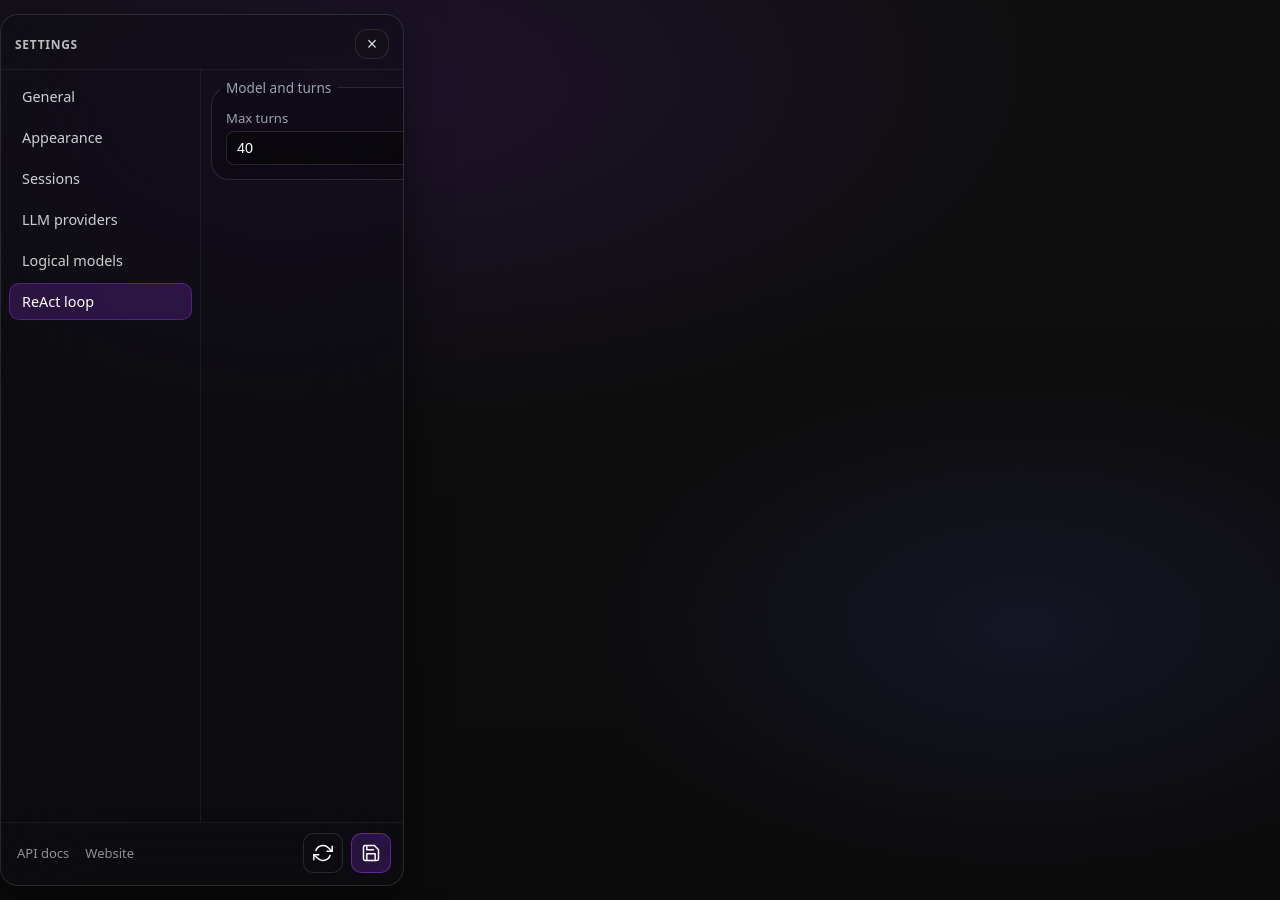
it: a failed save shows the error in the status band and leaves the button as it was
Expected: the number field named "Max turns" is shown, [226,131,403,165]
Click the button with test id "settings-save".
click(371, 853)  # box [351,833,391,873]
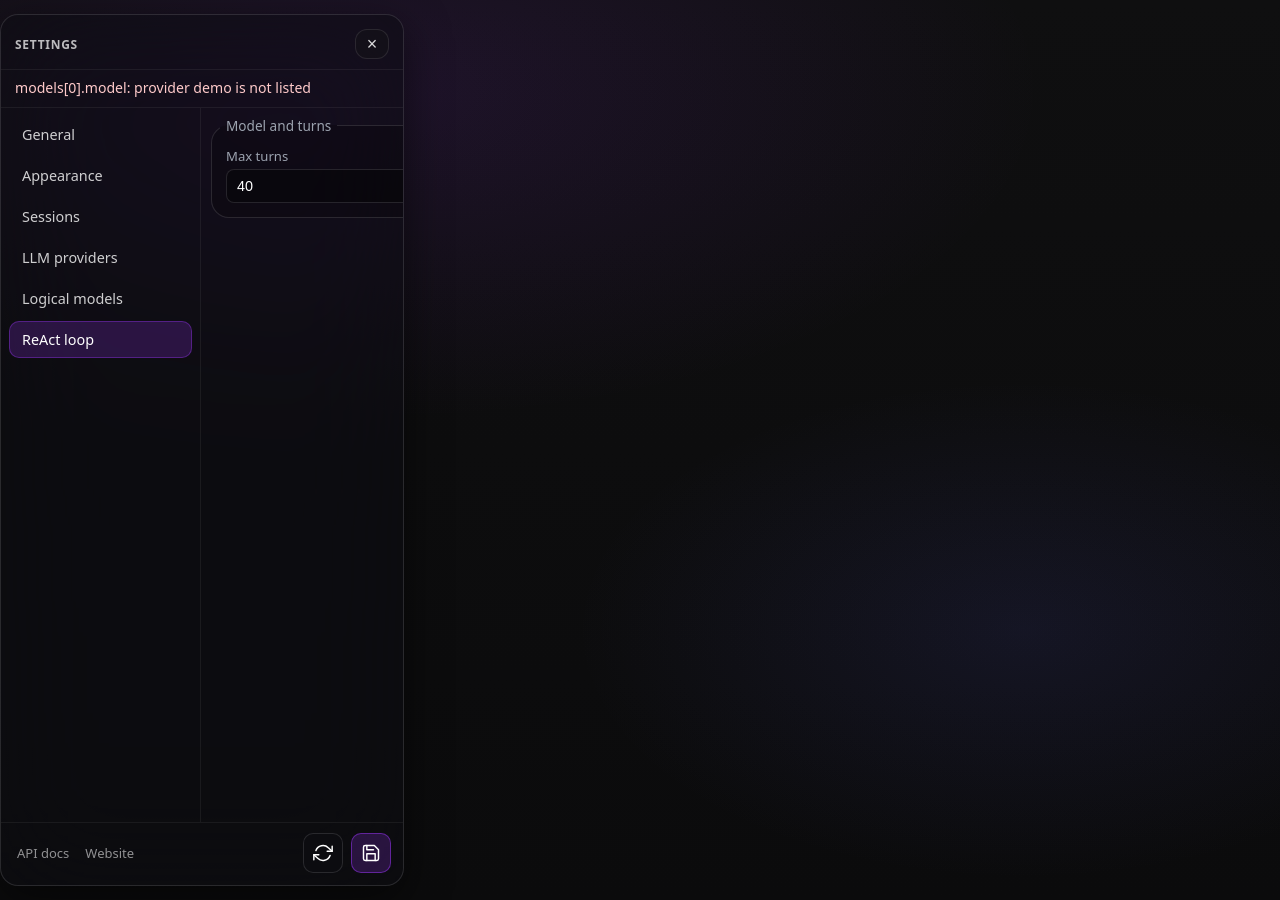
Expected: the text with class "settings-error" reads "models[0].model: provider demo is not listed", [15,78,311,97]
